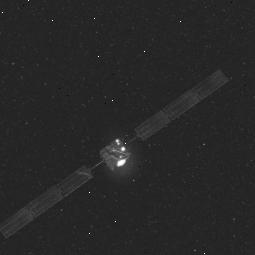smart_1: (63, 106, 158, 198)
